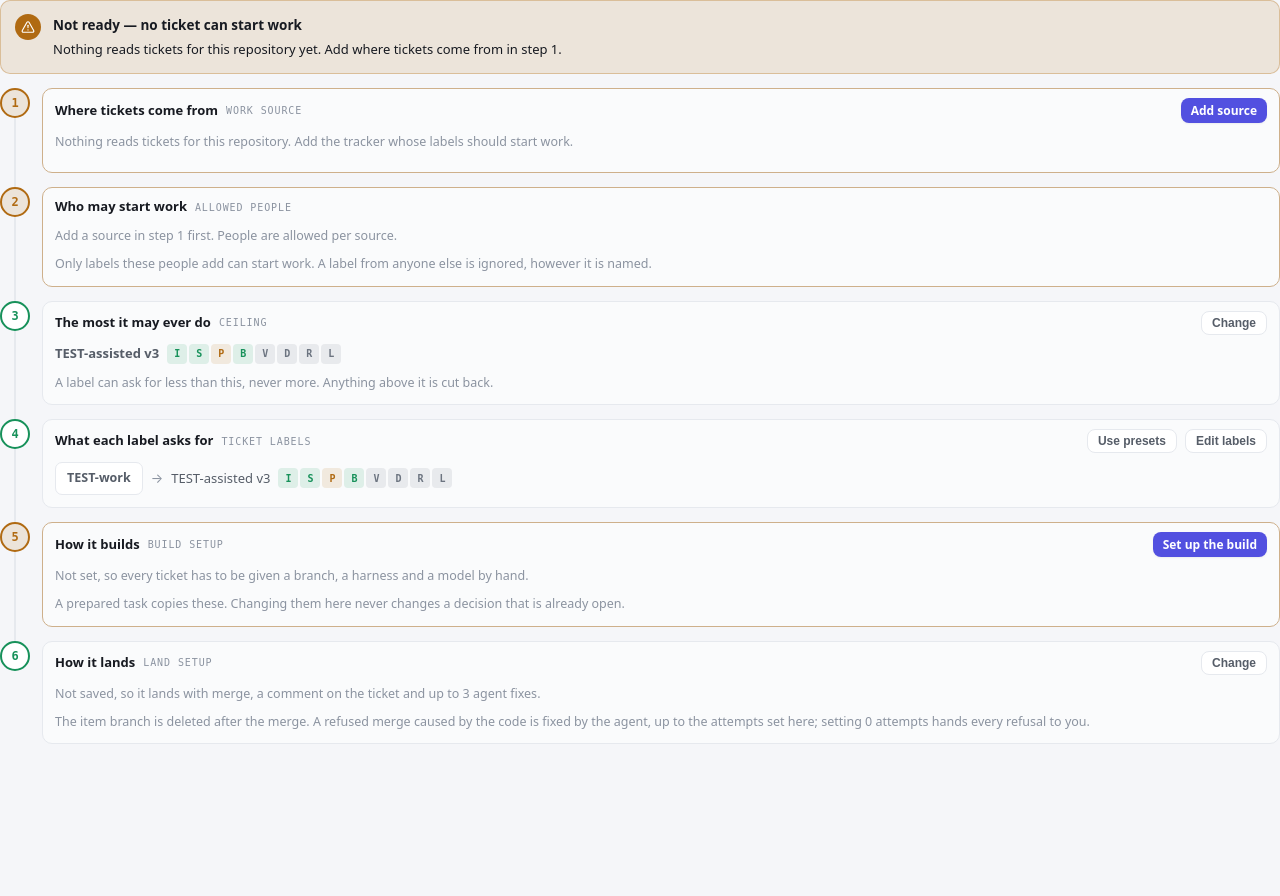
Test: explains a missing account and links to Accounts instead of an empty picker
Click the button "Add source" at (1224, 110), box [1181,98,1267,123]
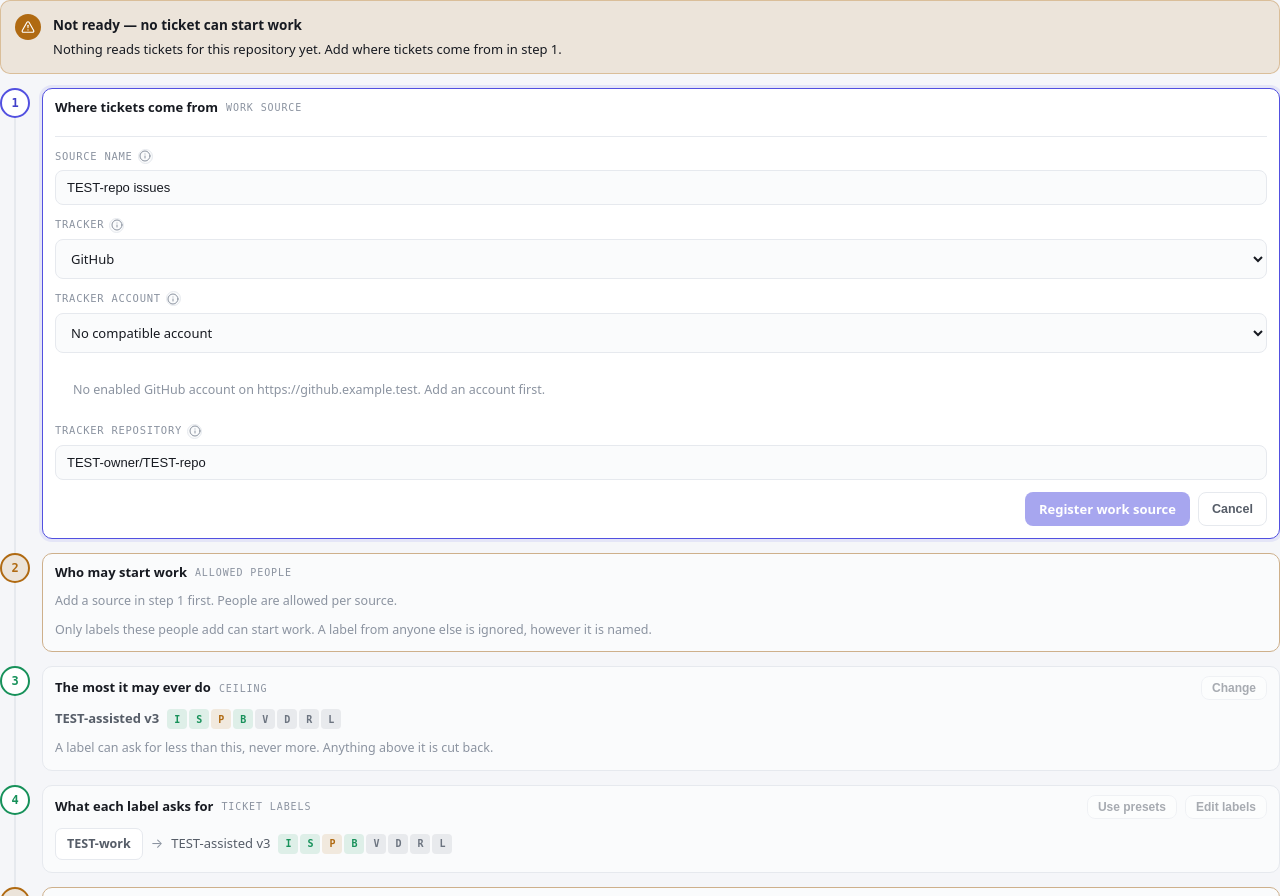
Result: the text "No enabled GitHub account on https://github.example.test" is shown at [73,381,545,398]
Result: the button "Register work source" is disabled at [1025,492,1190,526]
